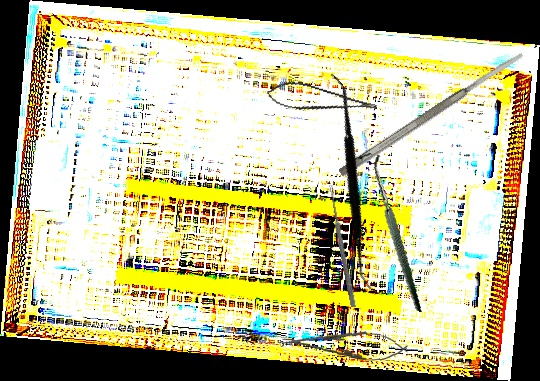Hook Surgical: (330, 150, 450, 313)
Micro Scissor: (264, 74, 379, 130)
Needle Holder: (280, 325, 409, 364)
Spatula Surgical: (248, 72, 454, 291), (337, 49, 526, 179)
Surgical Spoon: (327, 184, 357, 308)
